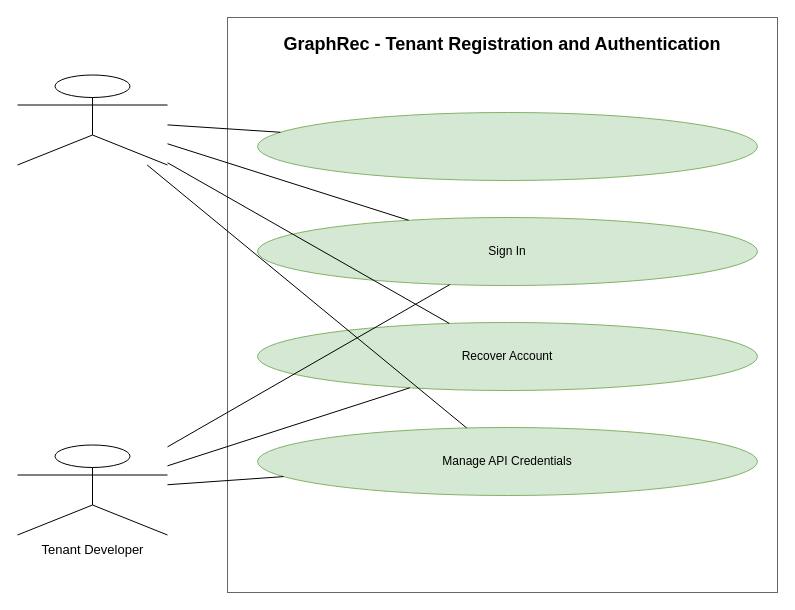
The diagram is 795 pixels wide and 610 high, and some of its shapes have lost their labels. Each missing label, with the box of its shape:
Register Tenant: (256, 112, 758, 180)
Tenant Administrator: (16, 74, 168, 165)
